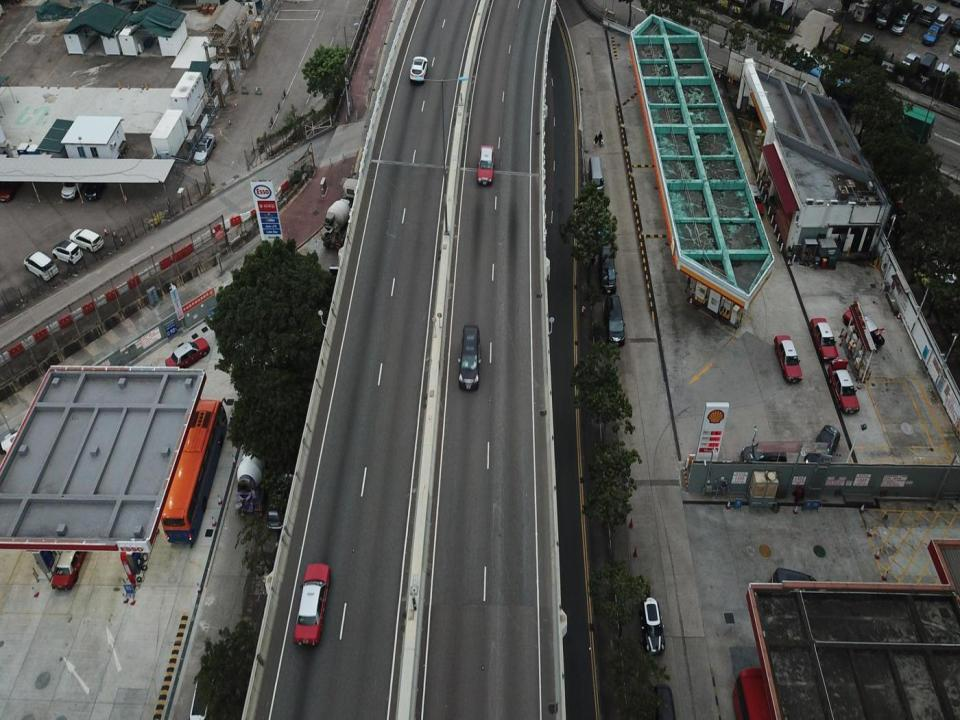bus: (159, 400, 228, 548)
car: (293, 560, 332, 647), (47, 529, 92, 591), (263, 468, 299, 539), (825, 352, 863, 418), (772, 566, 828, 610), (842, 304, 886, 346), (640, 592, 666, 660), (737, 440, 789, 474), (599, 292, 626, 354), (802, 425, 839, 470), (457, 322, 480, 394), (771, 331, 801, 386), (808, 315, 838, 365), (165, 338, 208, 367), (594, 244, 617, 295), (23, 250, 56, 284), (650, 681, 677, 719), (475, 142, 497, 188), (60, 159, 82, 204), (51, 239, 81, 267), (71, 226, 102, 253), (192, 134, 218, 166), (83, 162, 101, 204), (406, 51, 429, 83), (916, 52, 937, 80), (890, 9, 911, 35), (920, 3, 941, 26), (900, 50, 920, 72), (932, 60, 950, 84), (875, 4, 893, 28), (856, 29, 874, 51), (923, 24, 941, 46), (934, 13, 952, 31)
truck: (235, 402, 272, 516), (319, 175, 370, 253)
van: (587, 151, 607, 200)
